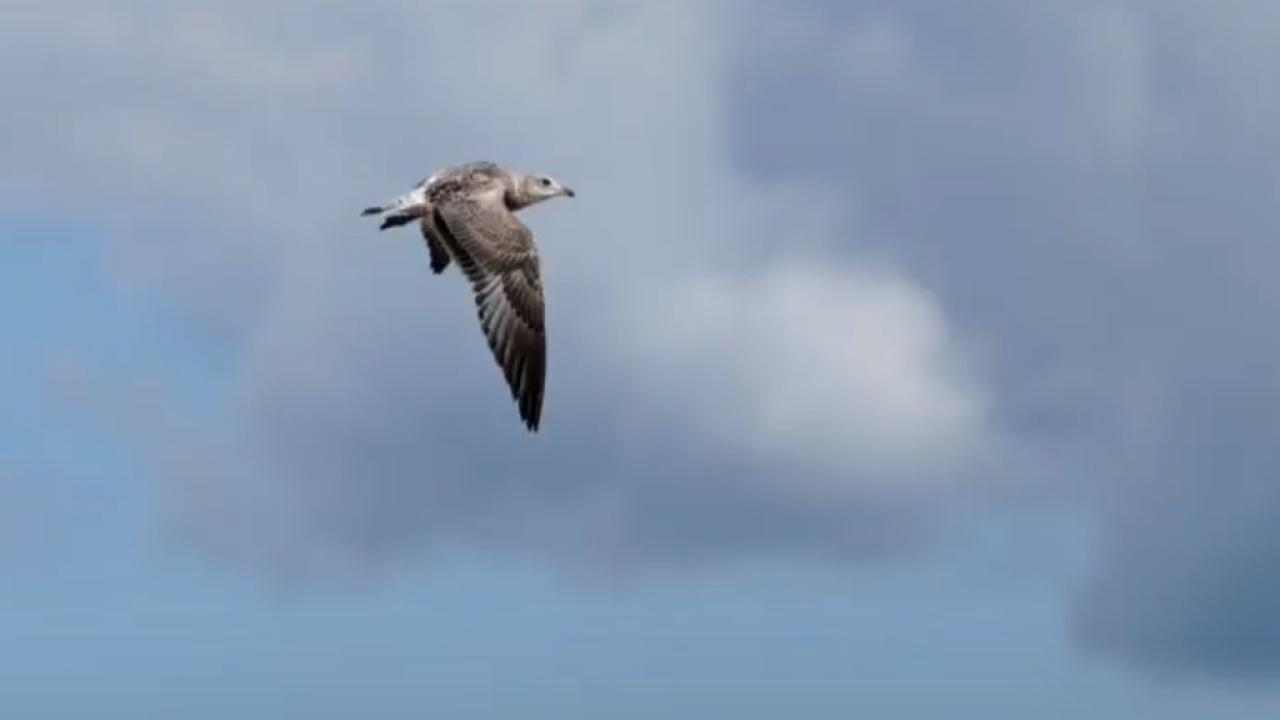Bird: (356, 154, 584, 448)
